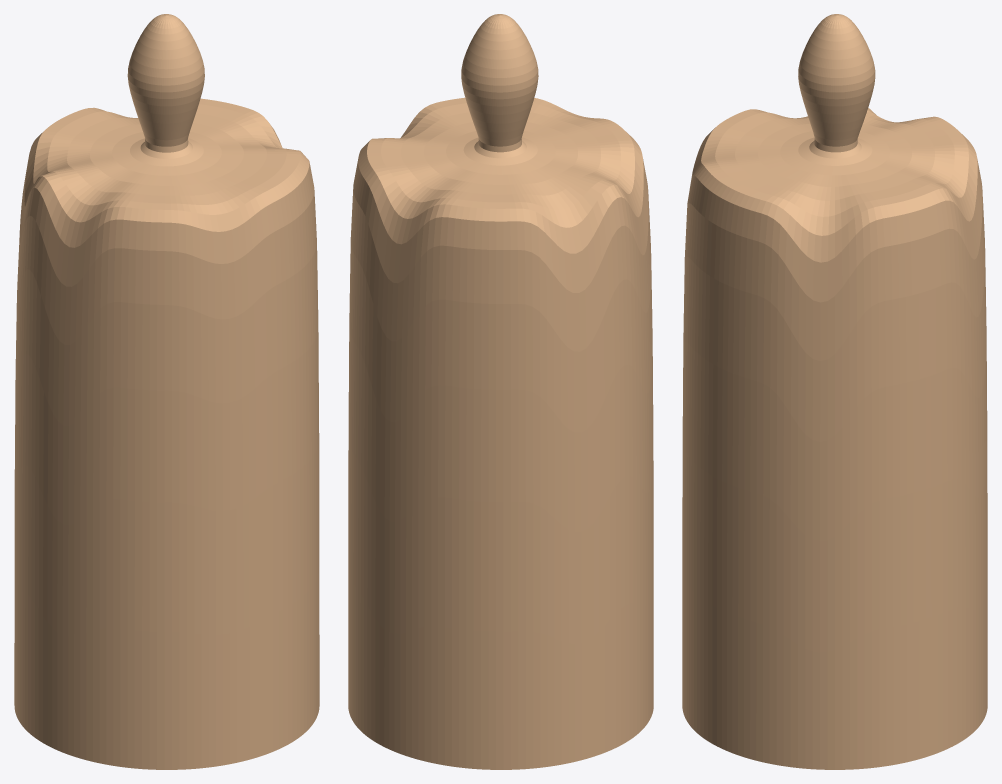
Rendered from vela.fbx.
3 renders of one model, left to right at view 1: azimuth 30°, elevation 25°; view 2: azimuth 150°, elevation 25°; view 3: azimuth 270°, elevation 25°, orthographic.
Parts seen in each view (by area): view 1: Vela; view 2: Vela; view 3: Vela.
Boxes of the visible parts, x1,y1,x2,y2 form: Vela: (14, 14, 319, 769); Vela: (348, 14, 653, 769); Vela: (682, 14, 987, 769).
Size of the model in its own units: 50.24 by 125 by 50.24.
